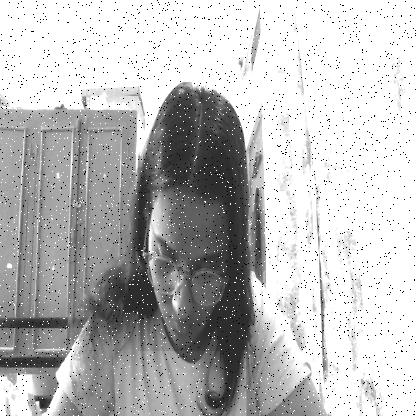Normal: (138, 82, 244, 351)
